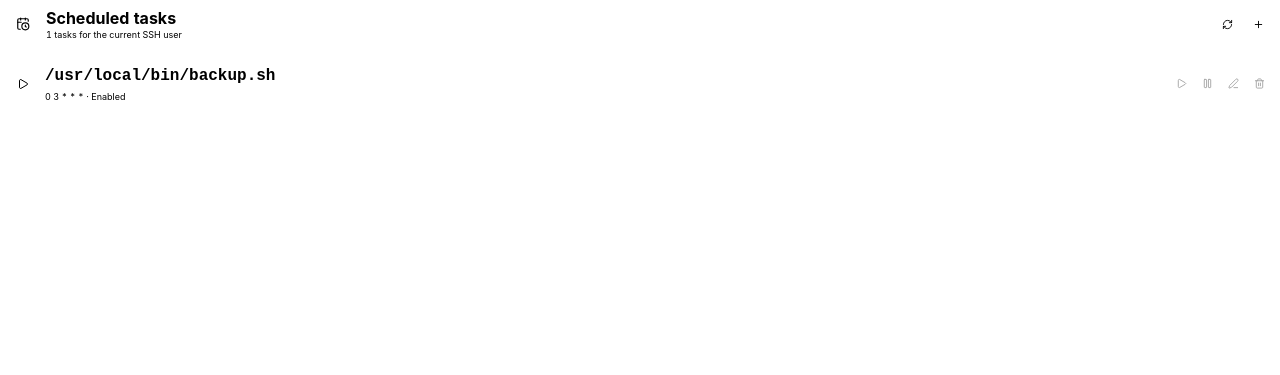
Test: CronPanel discard prompt › closes an untouched draft without asking
Click the button titled "Edit task" at (1233, 84), box [1221,72,1245,96]
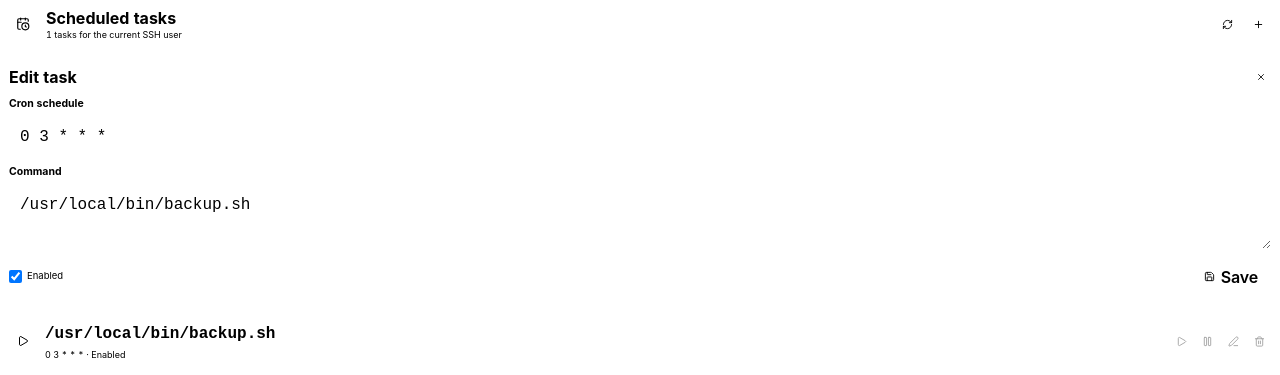
expect the text box with class "admin-command-input" holds "/usr/local/bin/backup.sh": met, box [9,184,1271,248]
Click the button titled "Close" at (1261, 77), box [1251,67,1271,87]
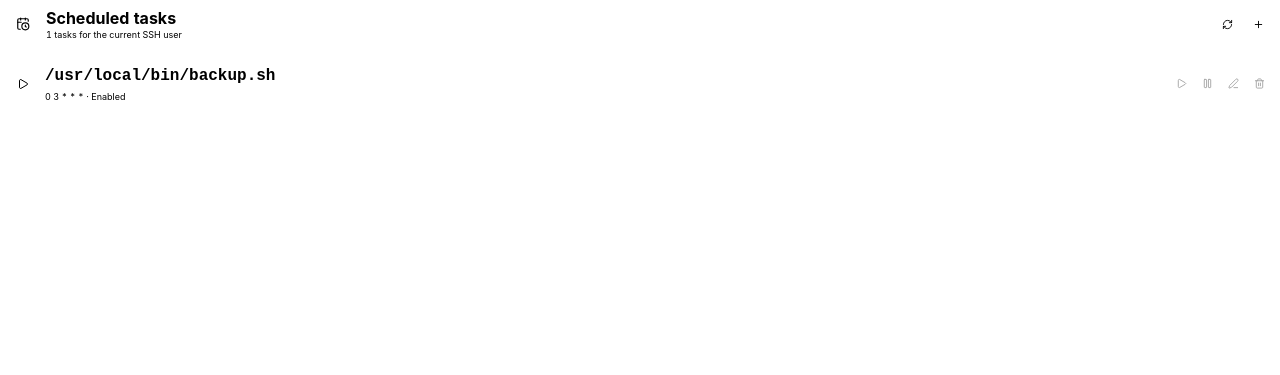
expect the text box with class "admin-command-input" is gone: met
